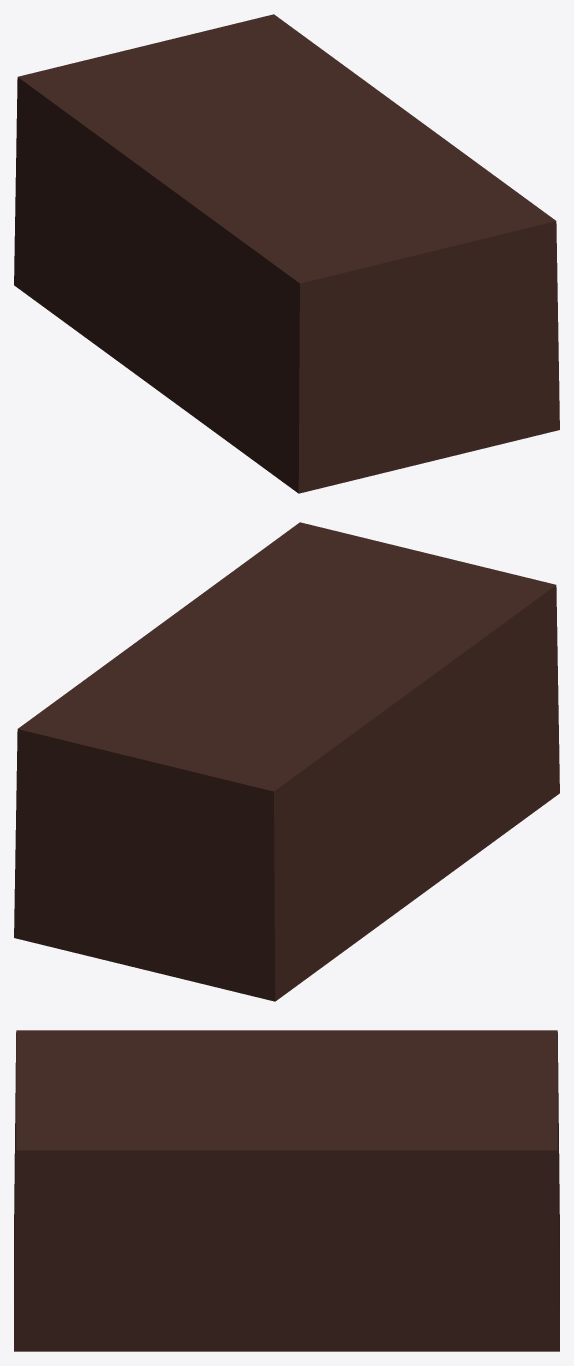
3 views of the same model, one above another, from view 1: azimuth 30°, elevation 25°; view 2: azimuth 150°, elevation 25°; view 3: azimuth 270°, elevation 25° (orthographic). The views are drawn at different scales.
Parts seen in each view (by area): view 1: blueprint.054; view 2: blueprint.054; view 3: blueprint.054.
Boxes of the visible parts, x1,y1,x2,y2 form: blueprint.054: [14, 14, 559, 493]; blueprint.054: [14, 522, 559, 1001]; blueprint.054: [14, 1030, 559, 1351].
Bounding box in the file's own units: 89.73 × 68.51 × 169.
